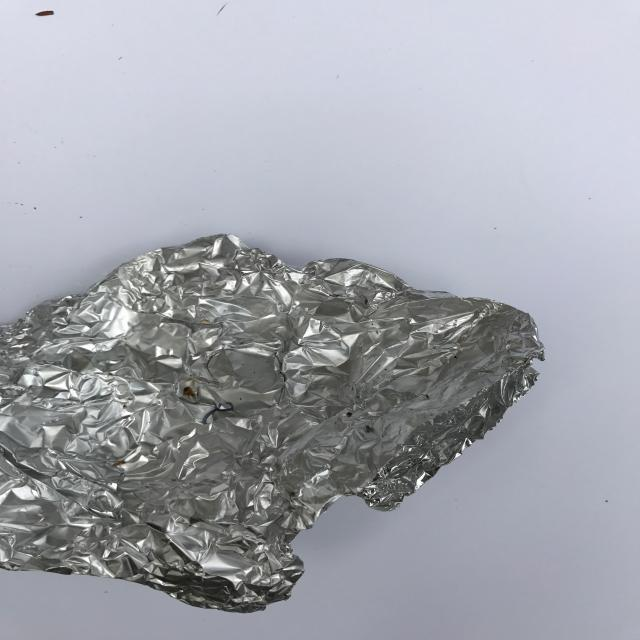metal: (1, 232, 546, 613)
